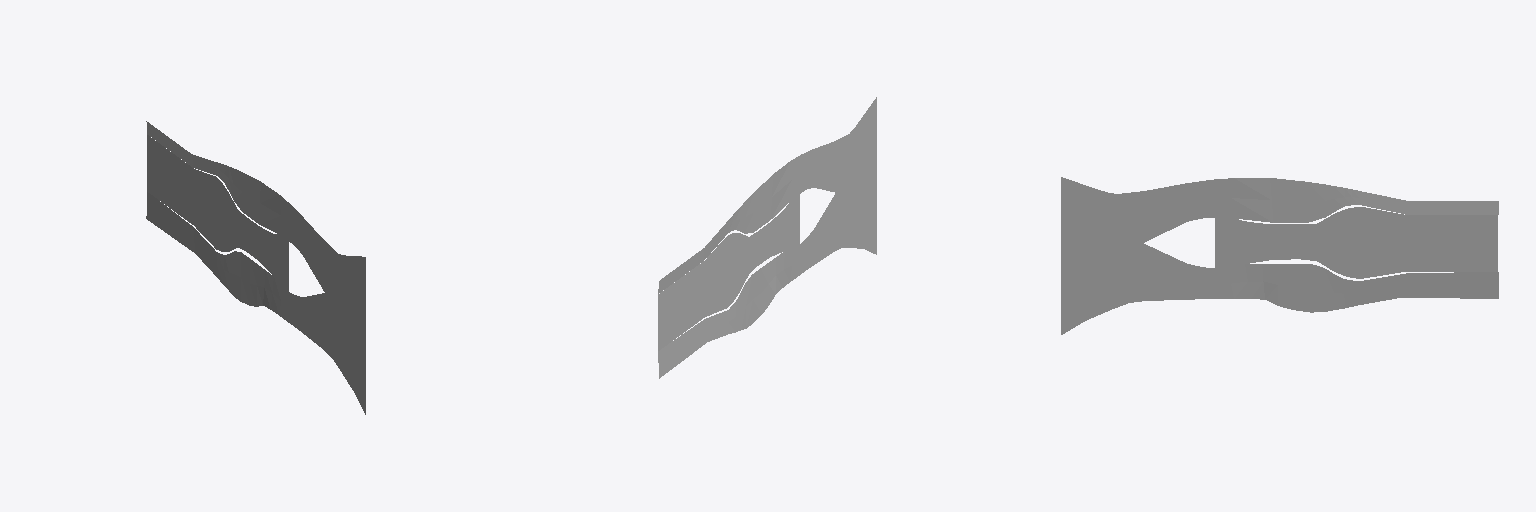
Rendered from WebTest.obj.
3 views of the same model, side by side, from view 1: azimuth 30°, elevation 25°; view 2: azimuth 150°, elevation 25°; view 3: azimuth 270°, elevation 25° (orthographic).
Parts seen in each view (by area): view 1: FX_JetEngine_AirFlow_Cool_Cube.003, FX_JetEngine_AirFlow_Hot_02_Cube.008, FX_JetEngine_AirFlow_Warm_Cube.005, FX_JetEngine_AirFlow_Hot_01_Cube.007; view 2: FX_JetEngine_AirFlow_Cool_Cube.003, FX_JetEngine_AirFlow_Hot_02_Cube.008, FX_JetEngine_AirFlow_Warm_Cube.005, FX_JetEngine_AirFlow_Hot_01_Cube.007; view 3: FX_JetEngine_AirFlow_Cool_Cube.003, FX_JetEngine_AirFlow_Hot_02_Cube.008, FX_JetEngine_AirFlow_Warm_Cube.005, FX_JetEngine_AirFlow_Hot_01_Cube.007.
Boxes of the visible parts, x1,y1,x2,y2 form: FX_JetEngine_AirFlow_Cool_Cube.003: [146, 121, 365, 414]; FX_JetEngine_AirFlow_Hot_02_Cube.008: [147, 135, 210, 242]; FX_JetEngine_AirFlow_Warm_Cube.005: [243, 214, 288, 294]; FX_JetEngine_AirFlow_Hot_01_Cube.007: [211, 175, 242, 251]; FX_JetEngine_AirFlow_Cool_Cube.003: [658, 97, 876, 378]; FX_JetEngine_AirFlow_Hot_02_Cube.008: [658, 242, 721, 350]; FX_JetEngine_AirFlow_Warm_Cube.005: [754, 189, 799, 268]; FX_JetEngine_AirFlow_Hot_01_Cube.007: [722, 233, 753, 309]; FX_JetEngine_AirFlow_Cool_Cube.003: [1061, 177, 1498, 334]; FX_JetEngine_AirFlow_Hot_02_Cube.008: [1371, 209, 1497, 276]; FX_JetEngine_AirFlow_Warm_Cube.005: [1215, 218, 1306, 267]; FX_JetEngine_AirFlow_Hot_01_Cube.007: [1307, 207, 1370, 278].
Size of the model in its own units: 0.0505 by 7.87 by 19.7.